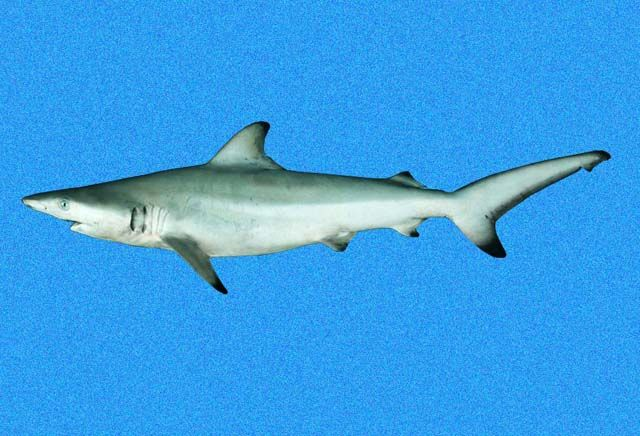fish: (23, 121, 615, 295)
